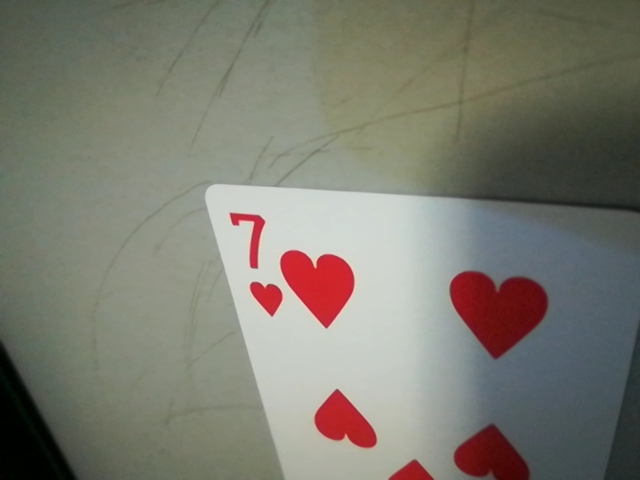hx 7: (218, 200, 277, 325)
